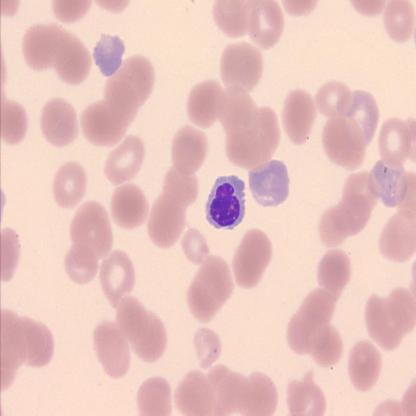NRC: (203, 174, 248, 233)
